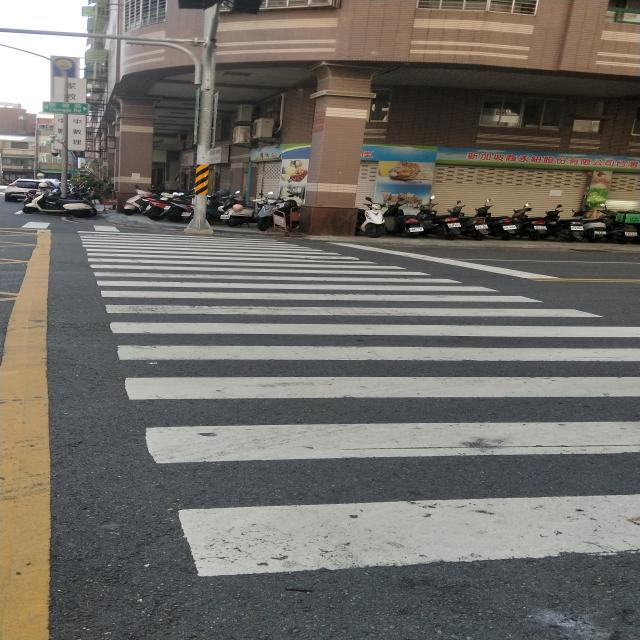zebra crossing: (85, 234, 640, 575)
